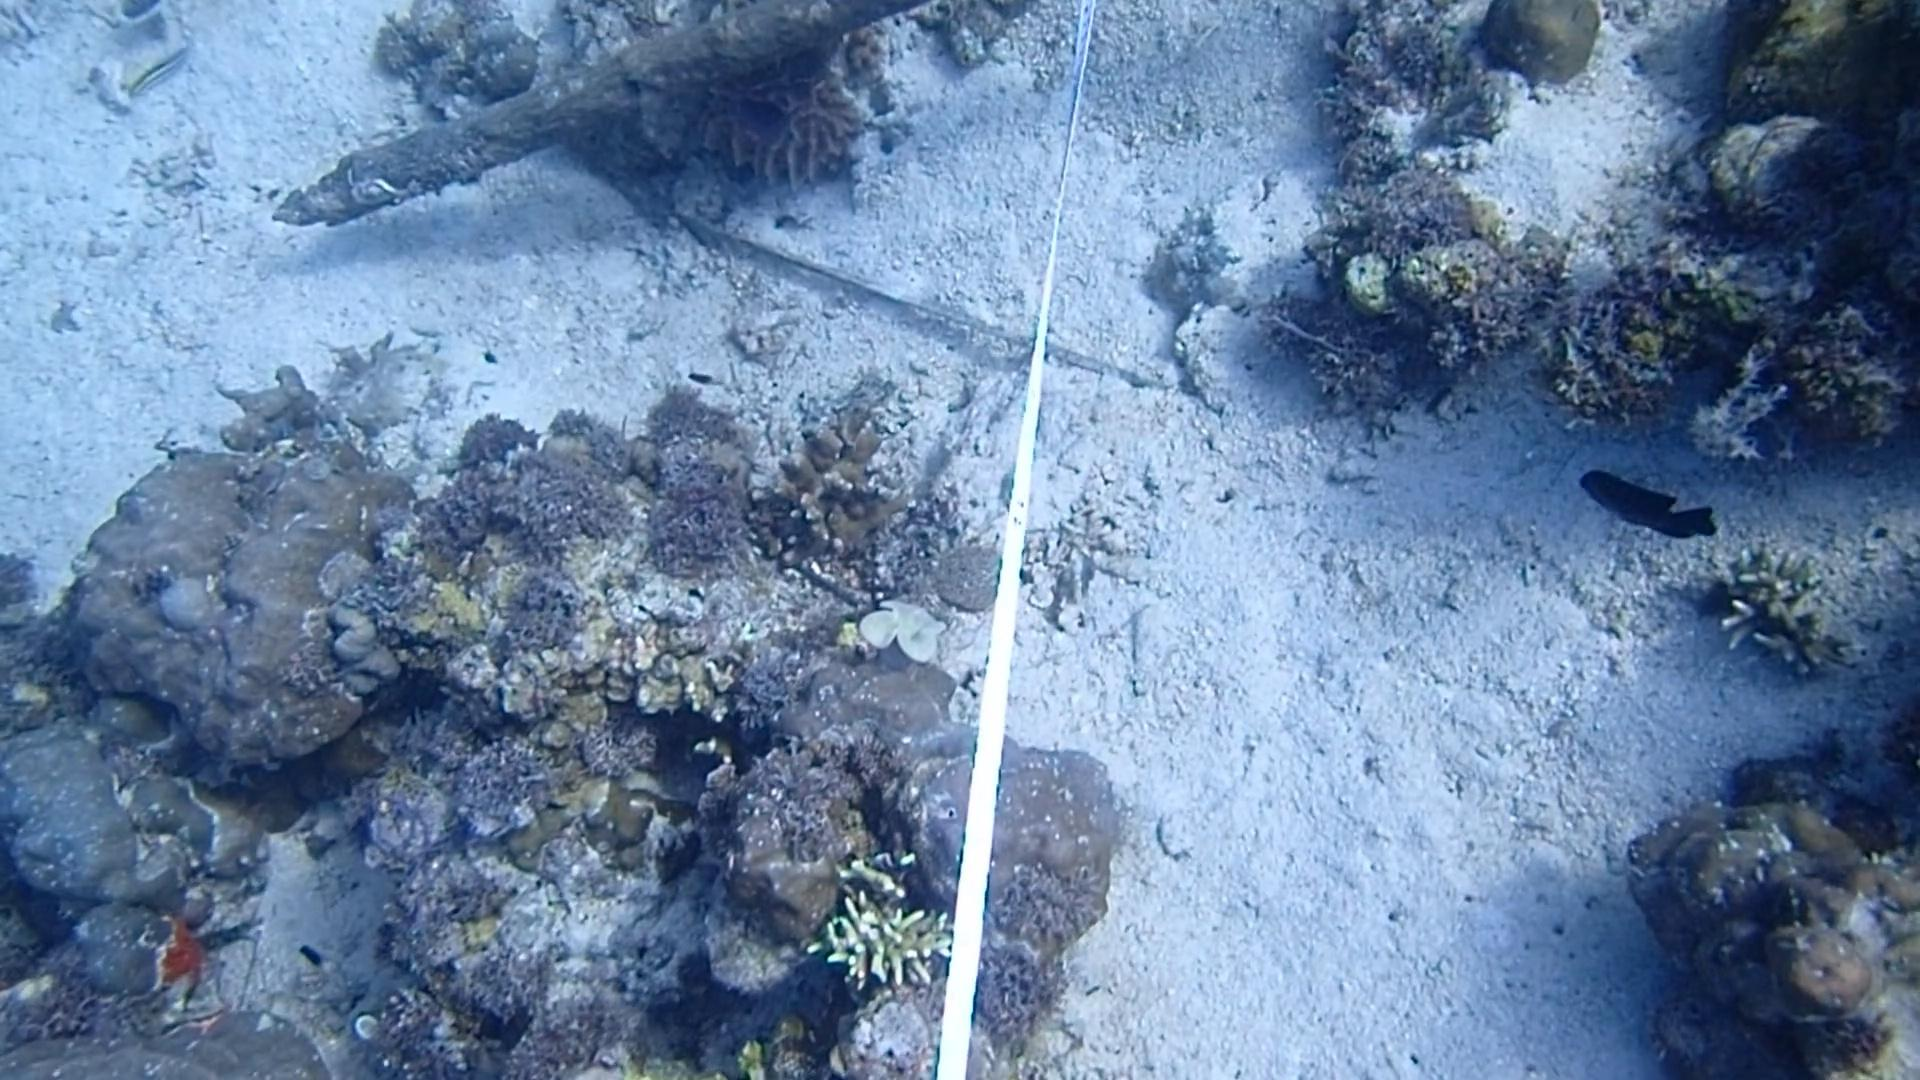Dark Fish: (1567, 460, 1726, 547)
Striped Fish: (113, 29, 211, 108)
